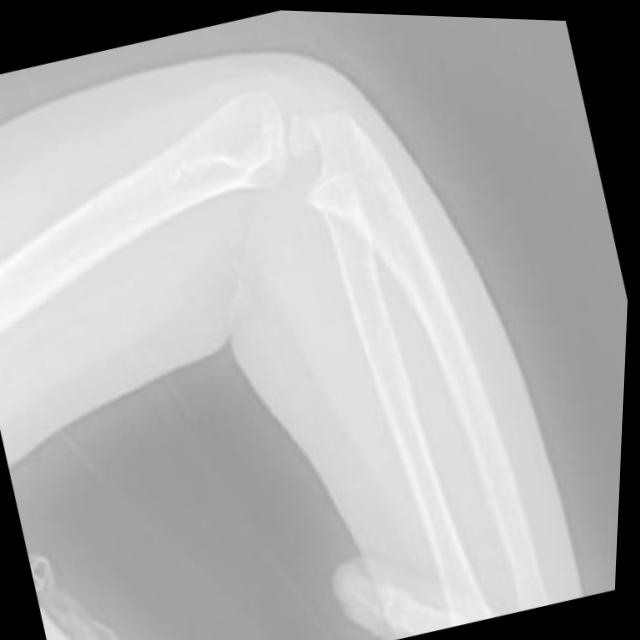fracture: (234, 101, 378, 232)
